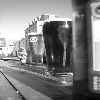beer: (41, 16, 72, 79)
